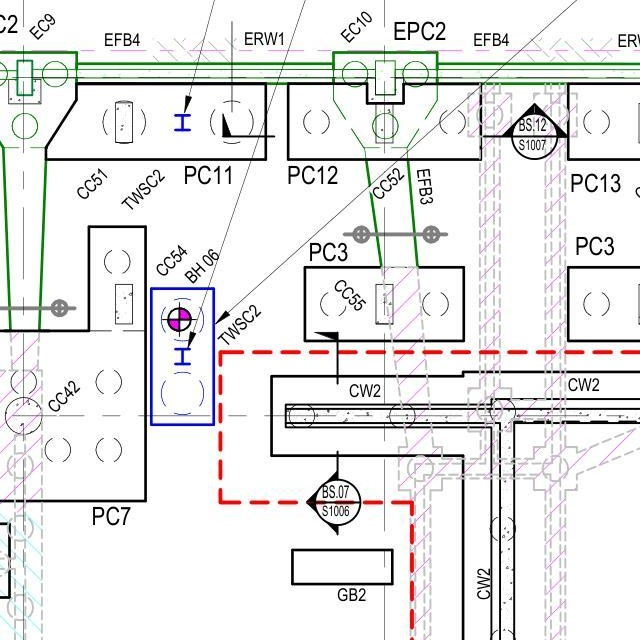BH06: (186, 246, 226, 285)
CC42: (46, 378, 81, 412)
CC51: (68, 164, 111, 198)
CC52: (369, 164, 405, 204)
CC54: (149, 237, 185, 273)
CC55: (335, 274, 367, 311)
CW2: (558, 371, 611, 399), (467, 558, 491, 598), (343, 379, 386, 401)
EC10: (337, 0, 375, 43)
EC9: (28, 10, 64, 38)
EFB3: (413, 165, 441, 211)
EFB4: (463, 21, 517, 50), (100, 22, 147, 48)
EPC2: (390, 13, 451, 45)
ERW1: (237, 27, 292, 51)
GB2: (332, 586, 369, 603)
PC11: (180, 157, 239, 191)
PC12: (277, 156, 347, 191)
PC13: (566, 165, 627, 201)
PC3: (566, 228, 626, 261), (299, 236, 356, 262)
PC7: (84, 492, 141, 533)
TWSC2: (214, 298, 265, 346), (122, 167, 171, 214)
